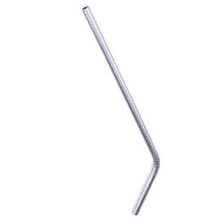drinking_straw: (75, 2, 164, 219)
